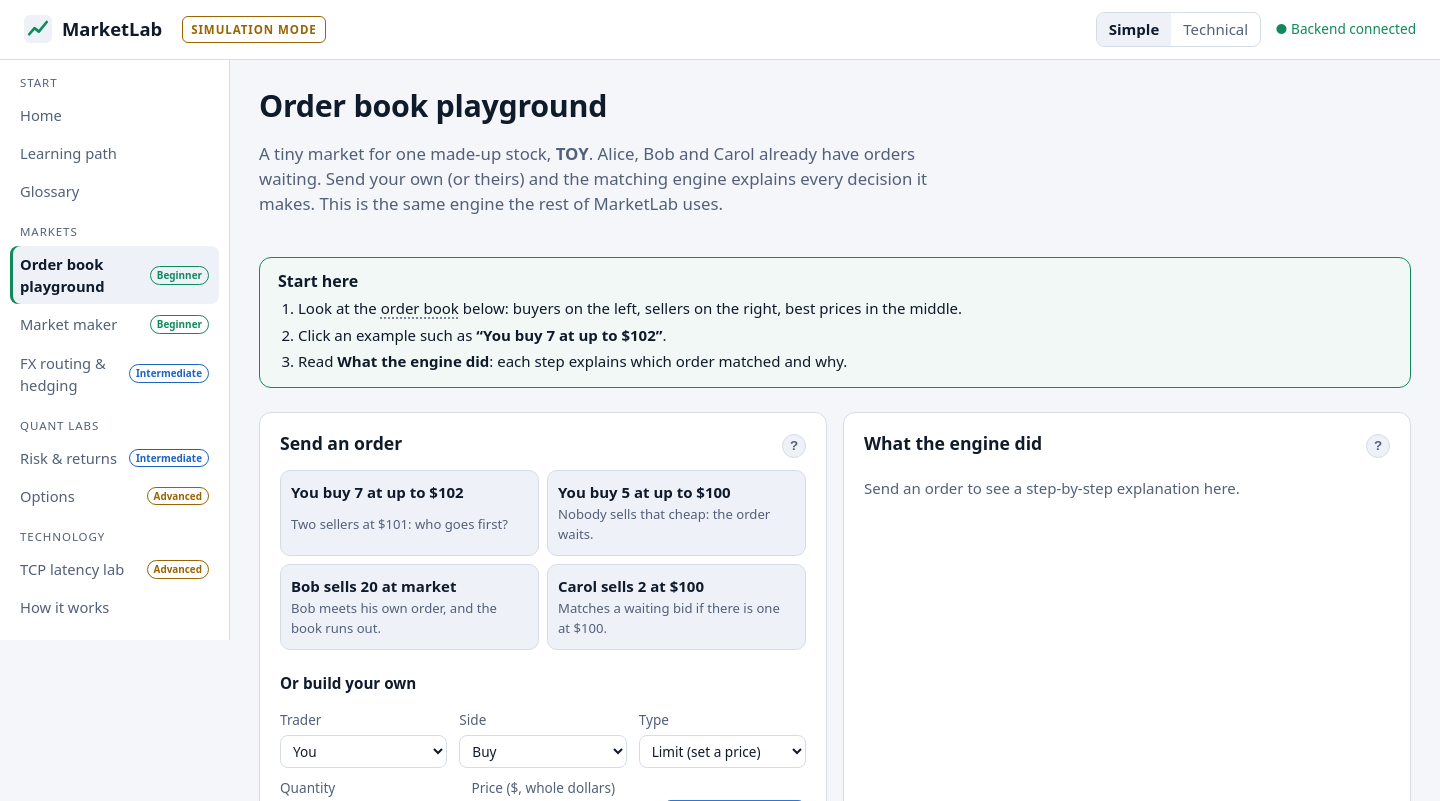
Scenario: Order book playground › shows queue order and the engine's step-by-step explanation
Click the button "You buy 7 at up to $102 Two sellers at $101: who goes first?". click: (410, 513)
box: [280,470,539,556]
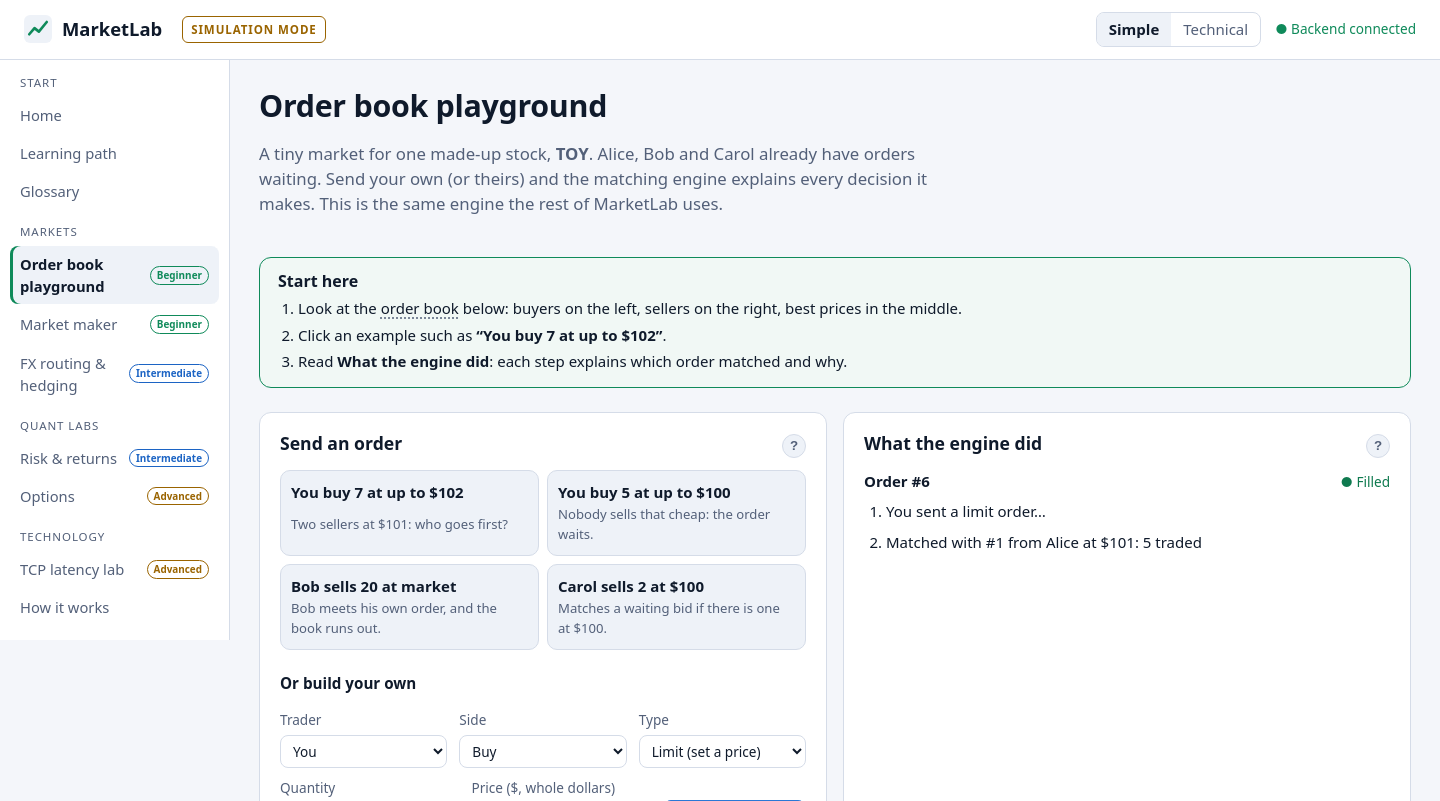
Check: the list item "Matched with #1 from Alice at $101: 5 traded" is shown, box [886,532,1202,552]
